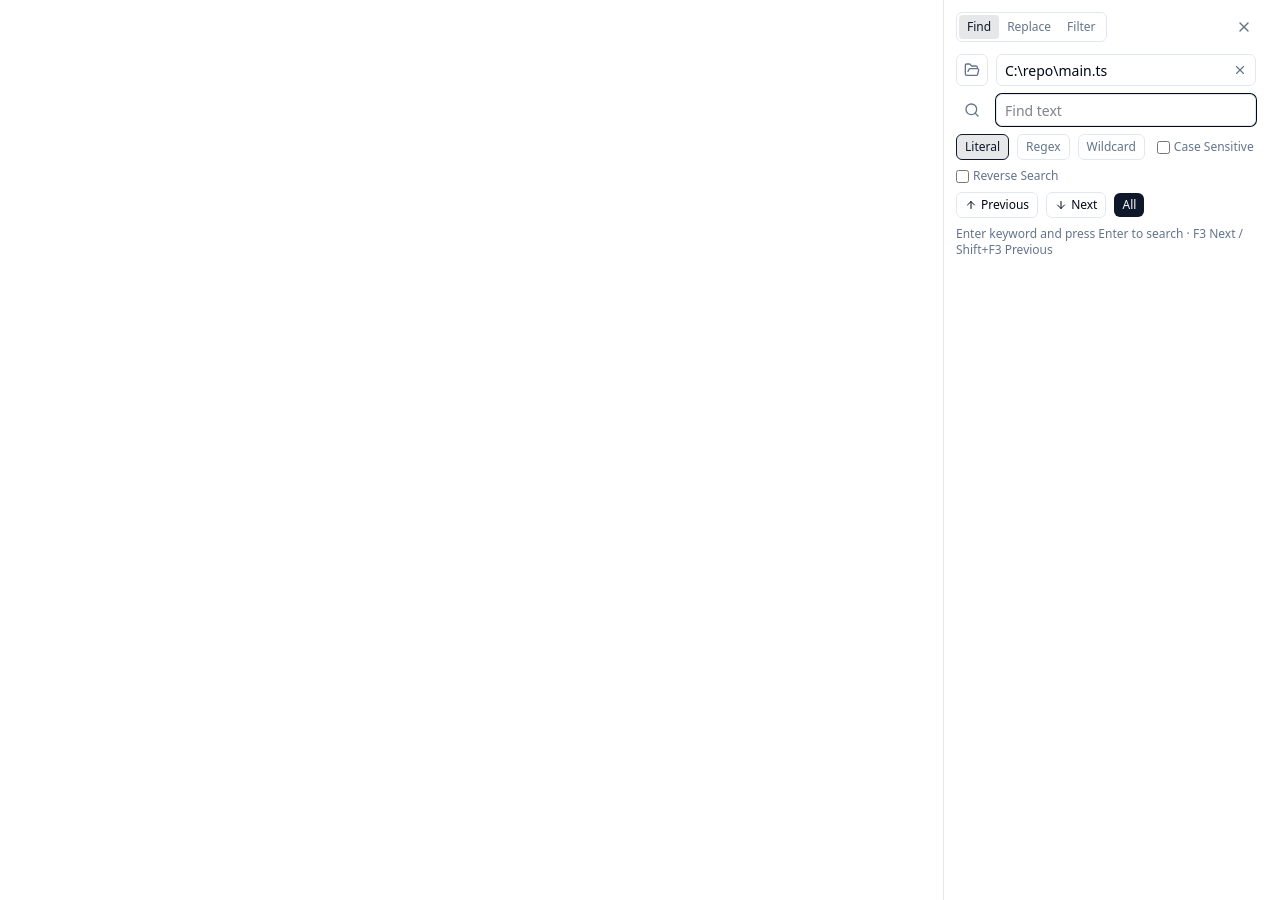
Test: SearchReplacePanel › shows search-results empty hint when opening result panel without keyword
Expected: the field with placeholder "Find text" is shown, 996,94 -> 1256,126
Click the button titled "Expand results": point(1129, 205) 1114,193 -> 1144,217
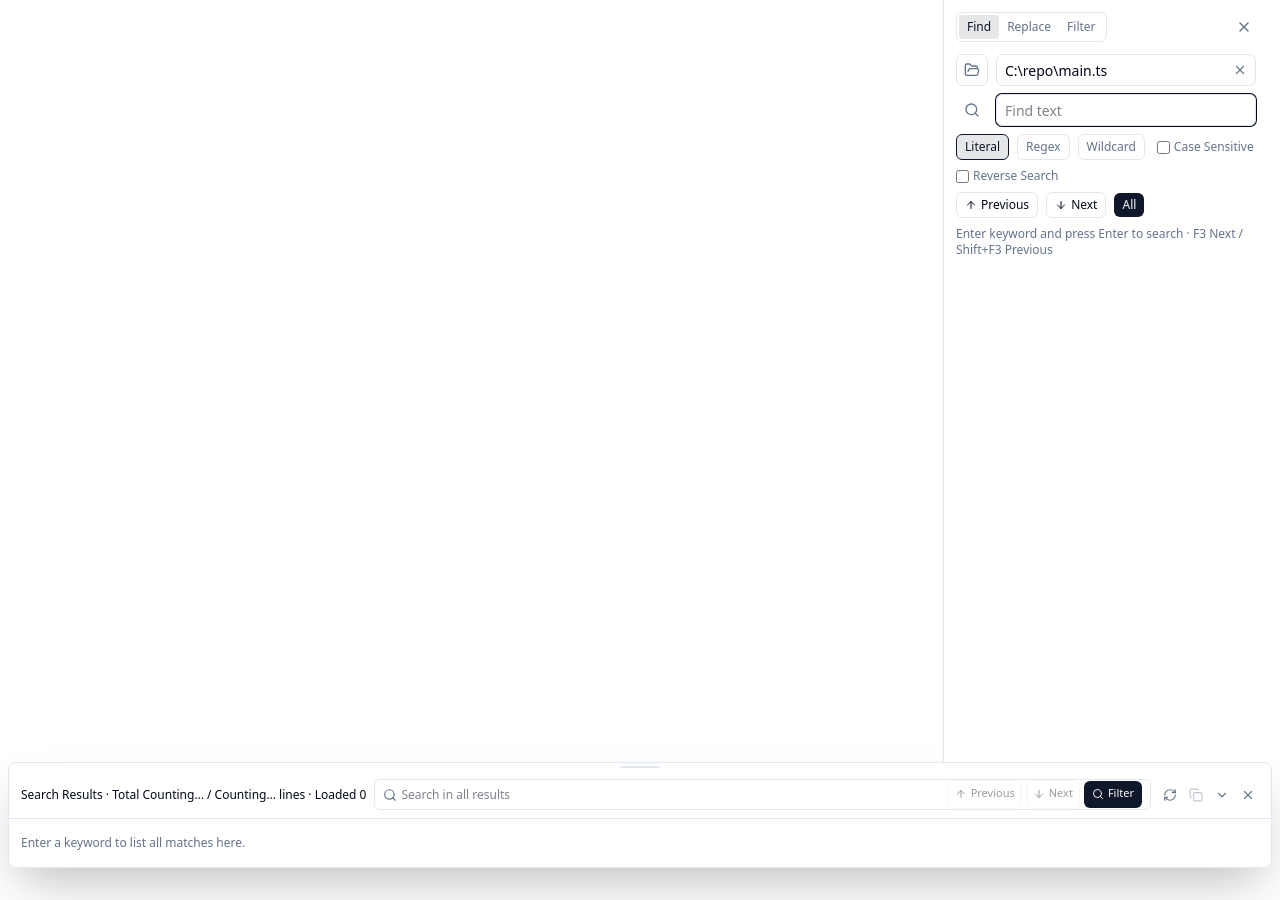
Expected: the text "Enter a keyword to list all matches here." is shown, 21,834 -> 245,851
